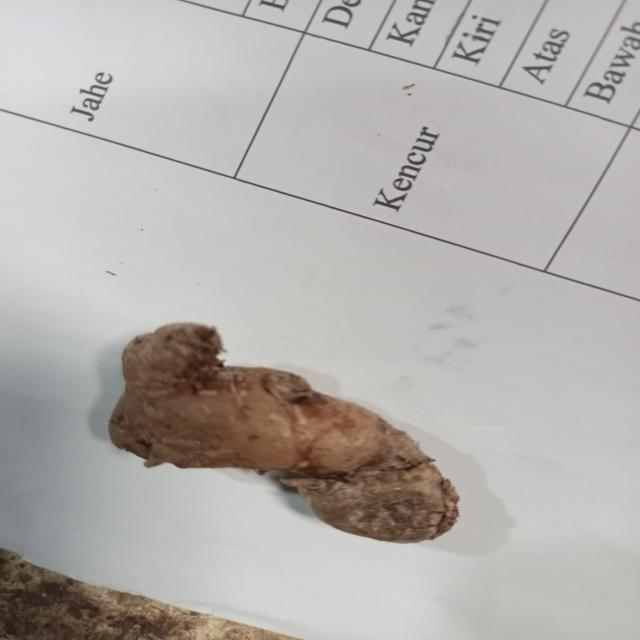ginger: (115, 324, 463, 538)
